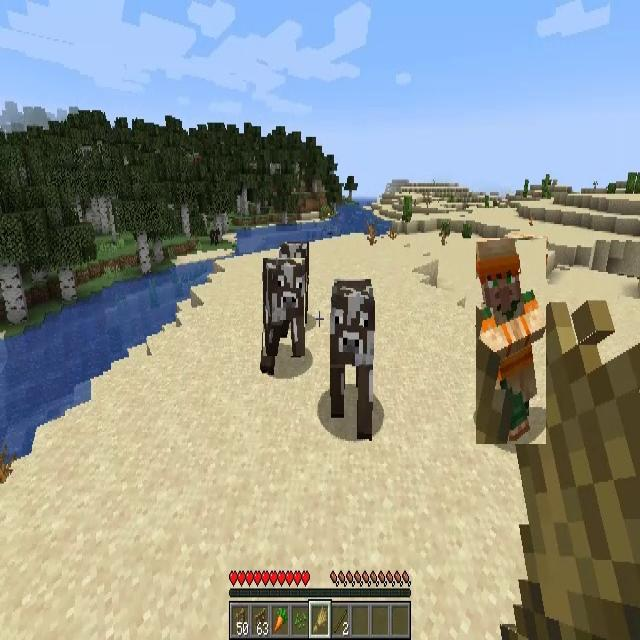cow: (329, 280, 374, 440), (263, 258, 305, 356), (209, 227, 220, 246)
people: (476, 238, 546, 444)
